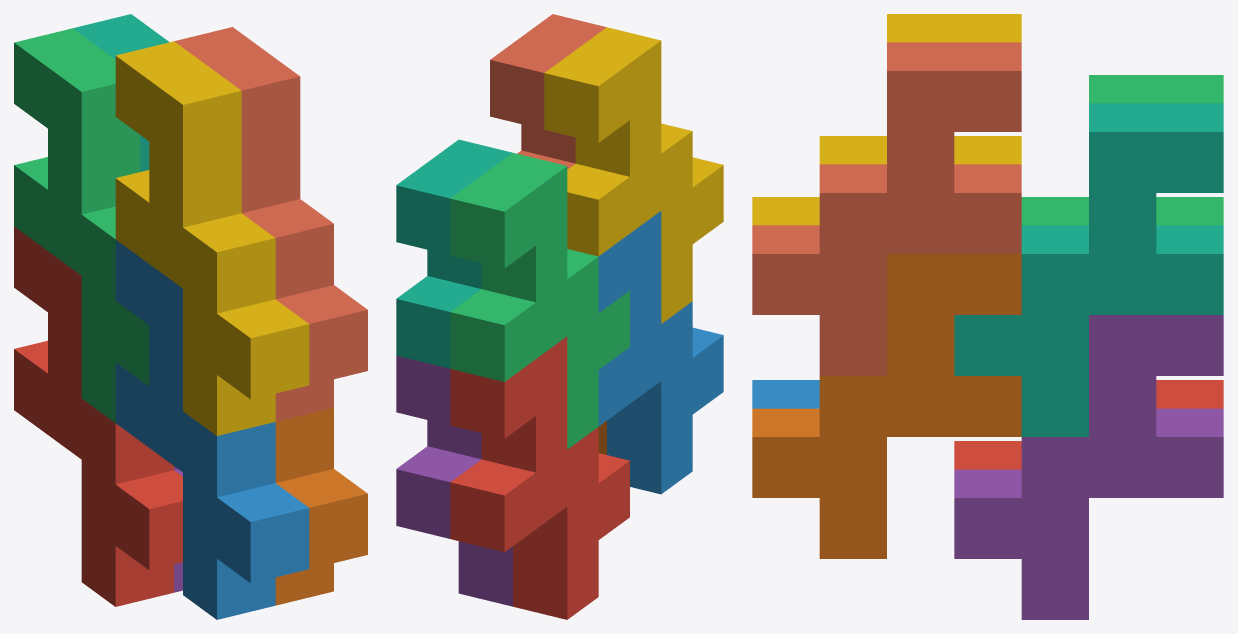
File: tiling.obj
3 views of the same model, side by side, from view 1: azimuth 30°, elevation 25°; view 2: azimuth 150°, elevation 25°; view 3: azimuth 270°, elevation 25° (orthographic). The views are drawn at different scales.
Visible parts, largest first — view 1: copy_1_domain_4, copy_1_domain_2, copy_1_domain_3, copy_1_domain_1, copy_1_domain_8, copy_1_domain_6, copy_1_domain_7; view 2: copy_1_domain_1, copy_1_domain_3, copy_1_domain_4, copy_1_domain_2, copy_1_domain_7, copy_1_domain_5, copy_1_domain_8; view 3: copy_1_domain_8, copy_1_domain_7, copy_1_domain_5, copy_1_domain_6, copy_1_domain_4, copy_1_domain_3, copy_1_domain_1, copy_1_domain_2.
Part boxes in pixels (x1,y1,x2,y2): copy_1_domain_4: (115,41,309,435); copy_1_domain_2: (115,240,309,619); copy_1_domain_3: (14,28,149,422); copy_1_domain_1: (14,226,182,606); copy_1_domain_8: (174,27,367,421); copy_1_domain_6: (275,407,367,605); copy_1_domain_7: (73,14,169,171); copy_1_domain_1: (450,336,629,619); copy_1_domain_3: (450,153,629,449); copy_1_domain_4: (544,27,723,323); copy_1_domain_2: (598,211,723,494); copy_1_domain_7: (396,139,512,368); copy_1_domain_5: (396,355,512,606); copy_1_domain_8: (490,14,606,169); copy_1_domain_8: (752,42,1021,375); copy_1_domain_7: (954,103,1223,436); copy_1_domain_5: (954,315,1223,619); copy_1_domain_6: (752,254,1021,558); copy_1_domain_4: (752,14,1021,225); copy_1_domain_3: (1021,75,1223,225); copy_1_domain_1: (954,380,1223,469); copy_1_domain_2: (752,380,819,408).
Size of the model in its own units: 2 by 9 by 7.
